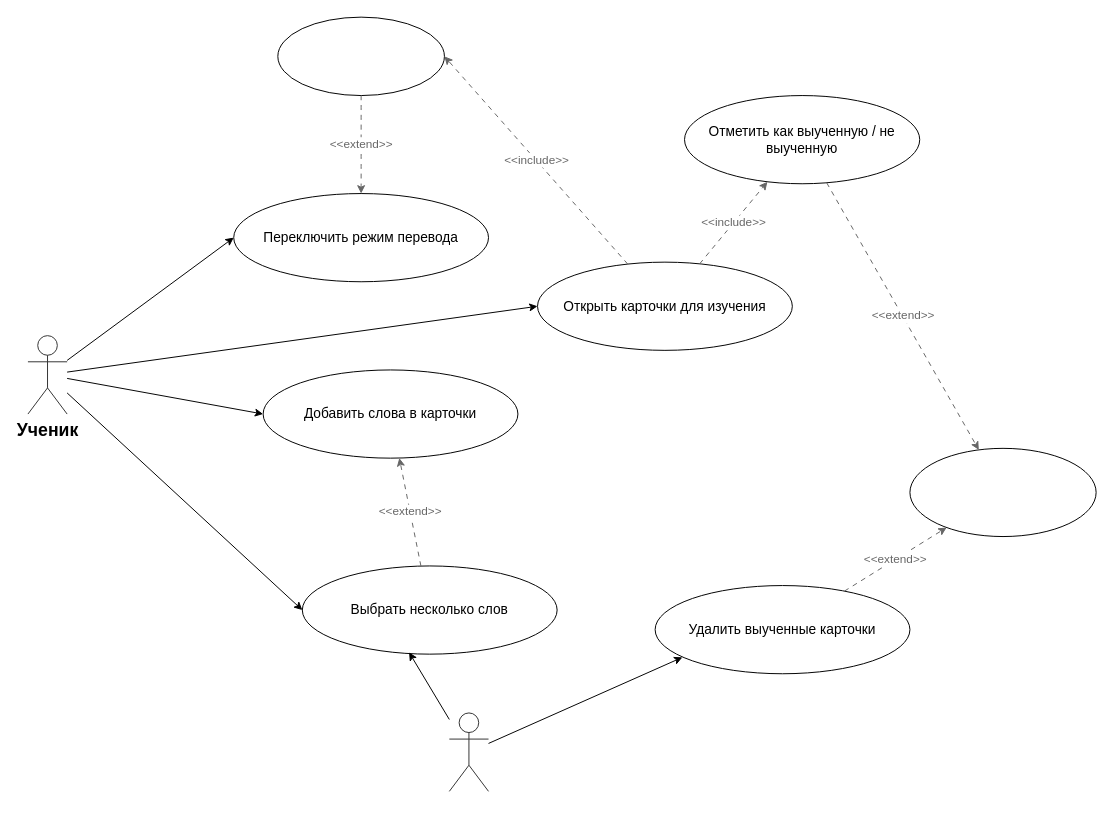
Image size: 1113x837. Some labels were removed from this diagram. The shapes that lost their labels are listed below. From the top down, each one's centre as x and y in pixels, then its label:
At point (360, 56): "Просмотреть перевод".
At point (1002, 492): "Просмотреть статистику".
At point (468, 751): "Преподаватель".
